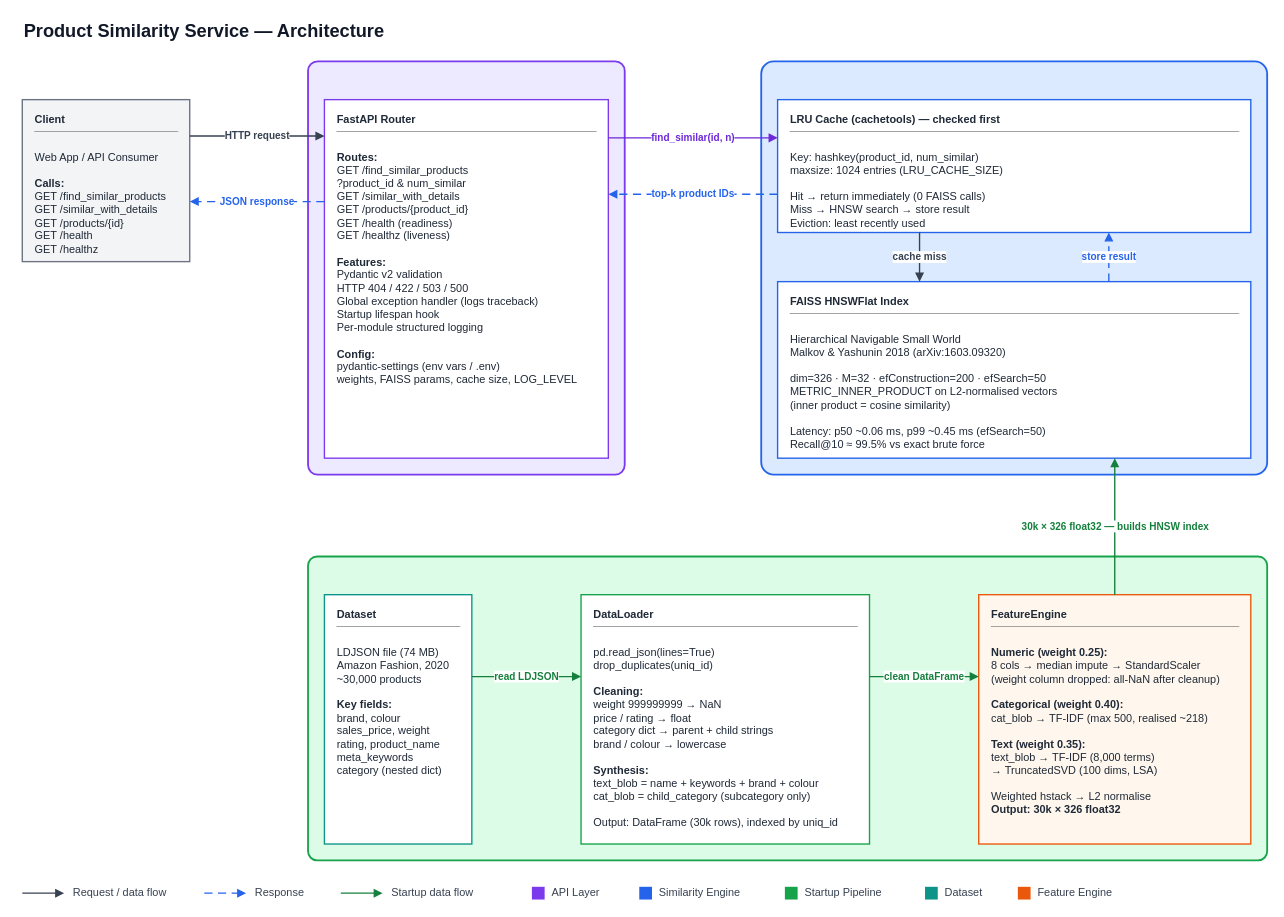
This 1284x917 diagram has some shape labels left out. Each missing label, with the box of its shape:
1. API Layer: (307, 60, 625, 475)
2. Similarity Engine: (760, 60, 1268, 475)
Startup Pipeline — runs once at launch (~3–13 s for 30k products): (307, 555, 1268, 861)
